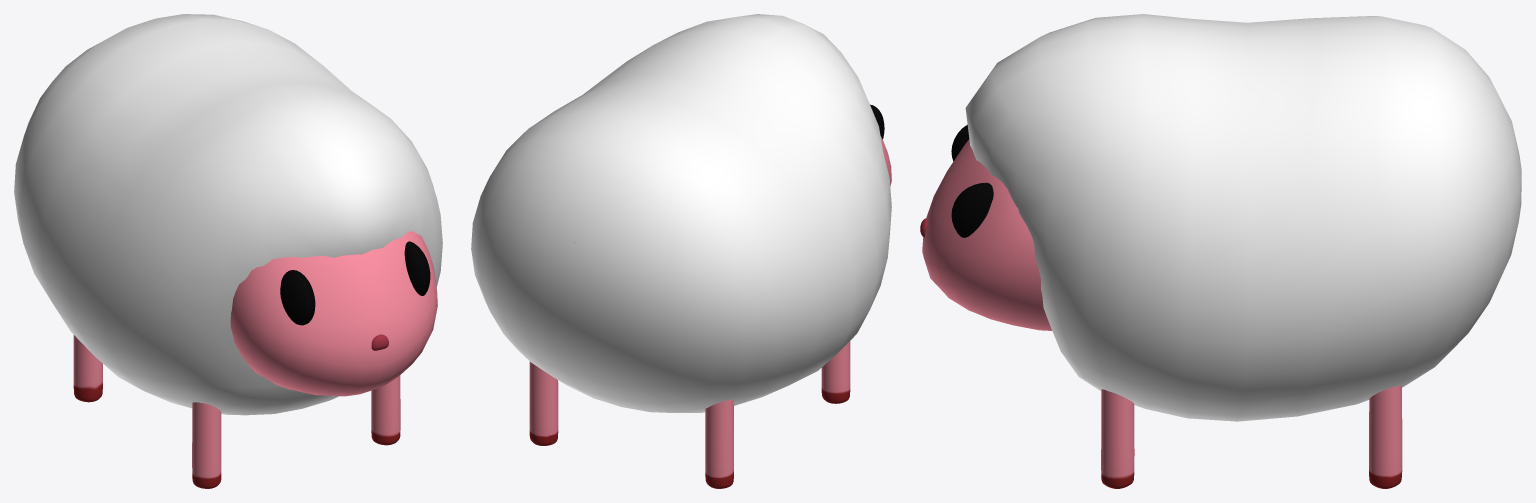
File: Sheep.fbx
3 renders of one model, left to right at view 1: azimuth 30°, elevation 25°; view 2: azimuth 150°, elevation 25°; view 3: azimuth 270°, elevation 25°, orthographic. The views are drawn at different scales.
Parts seen in each view (by area): view 1: Roundcube.007; view 2: Roundcube.007; view 3: Roundcube.007.
Boxes of the visible parts, box(x1,y1,x2,y2) form: Roundcube.007: box(14, 14, 442, 488); Roundcube.007: box(471, 14, 891, 488); Roundcube.007: box(920, 14, 1521, 488).
Bounding box in the file's own units: 133 × 138 × 185.
1 material, 1 textured.
